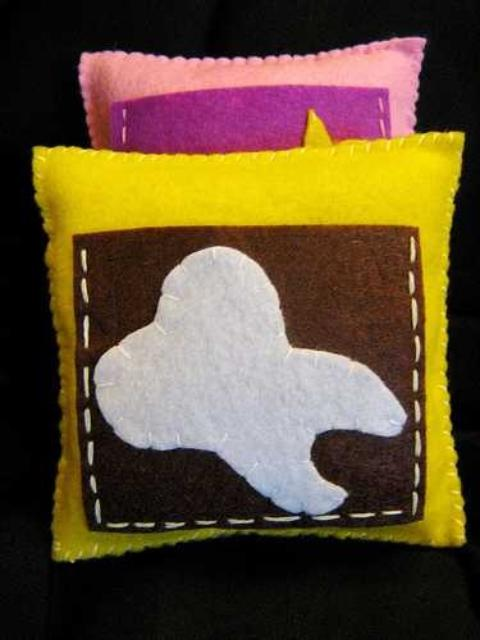pillow: (31, 124, 467, 562), (77, 35, 427, 152)
